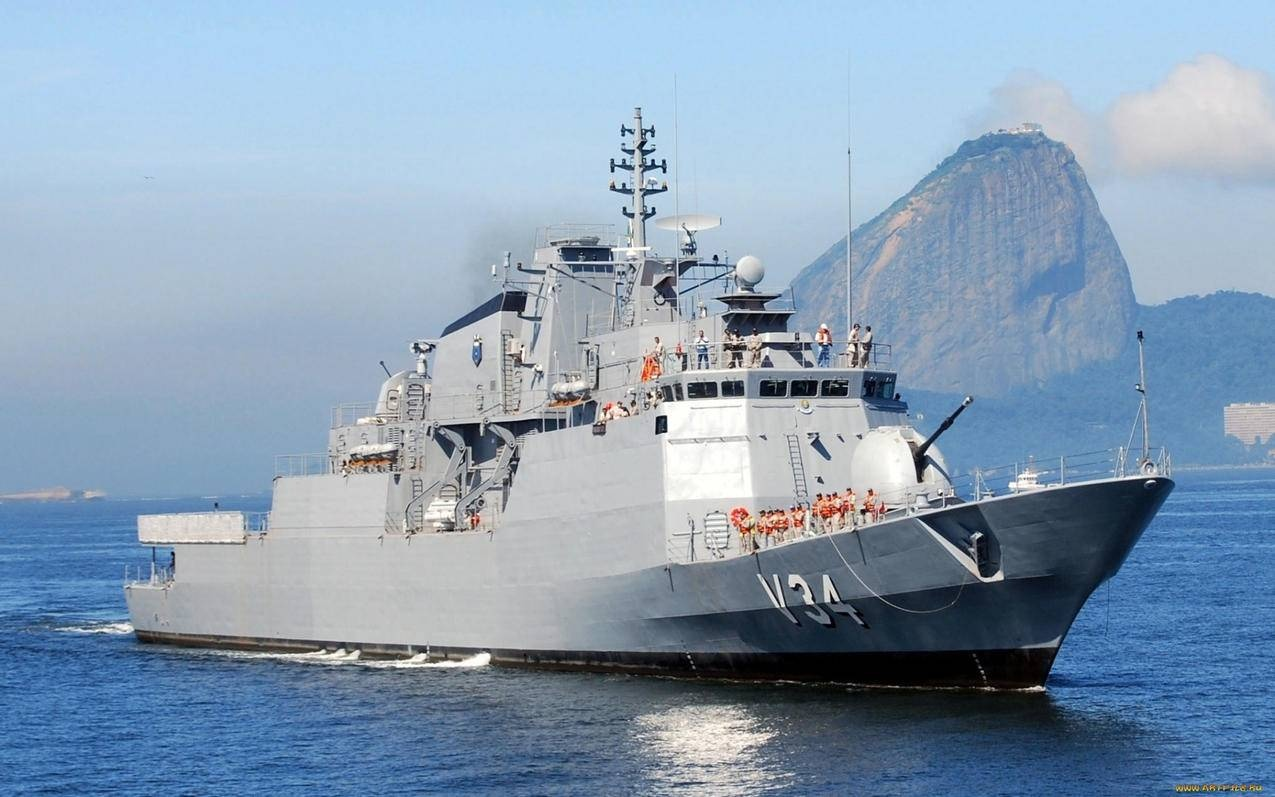warship: (113, 105, 1198, 683)
